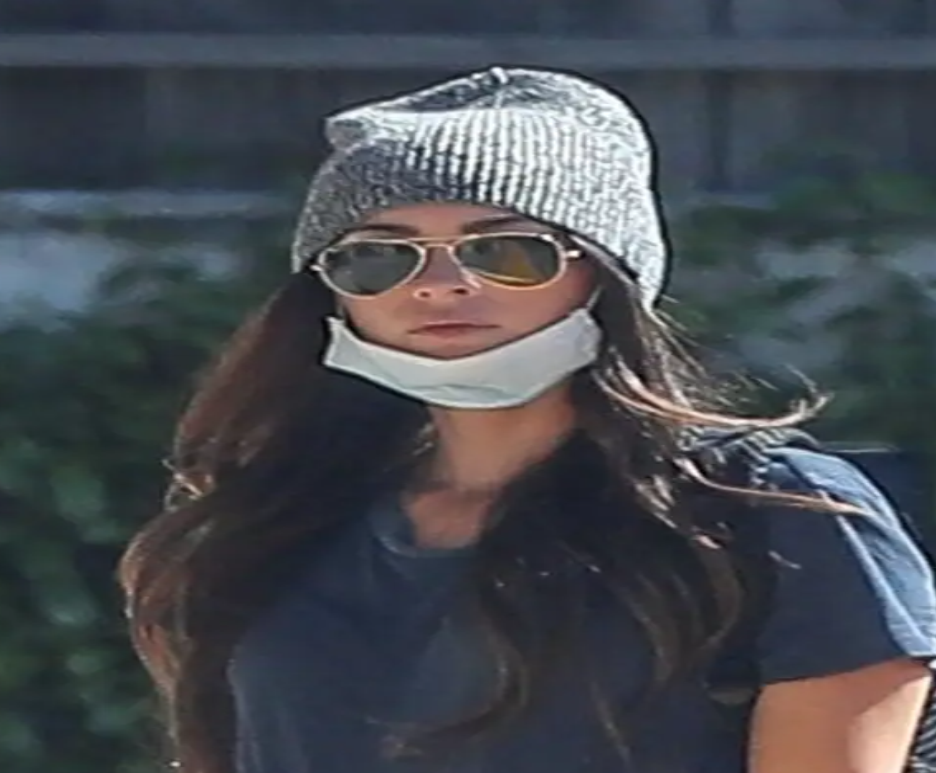mask_weared_incorrect: (292, 70, 666, 416)
